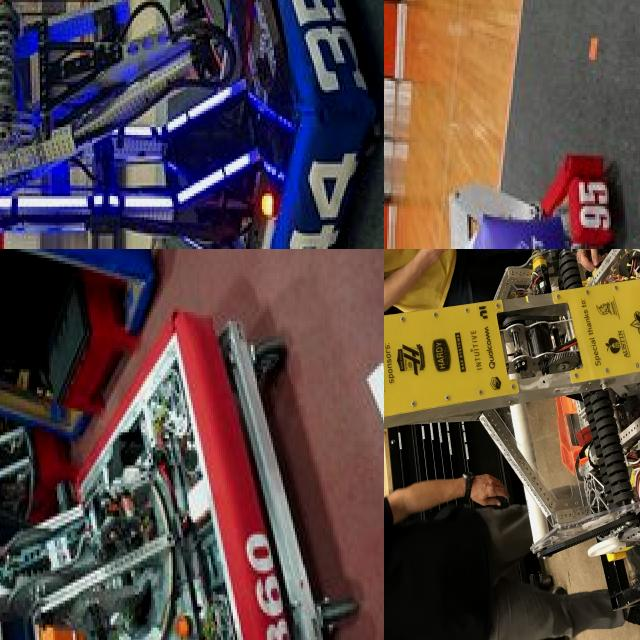FRC-Robots: (0, 249, 287, 640), (0, 0, 381, 249), (384, 249, 640, 612), (384, 125, 640, 249)
